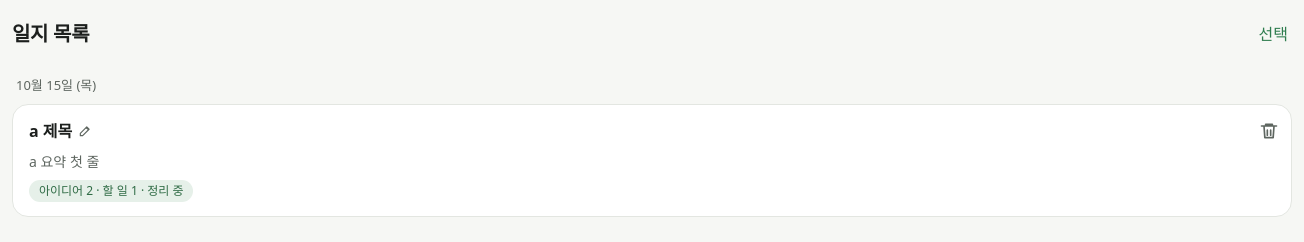
Scenario: JournalListScreen › 제목을 고치기 전에 떠난 다시 불러오기 응답은 고친 제목을 되돌리지 않는다
The width and height of the screenshot is (1304, 242).
Click the button with aria-label "제목 수정: a 제목".
click(61, 130)  # box [23,108,98,152]
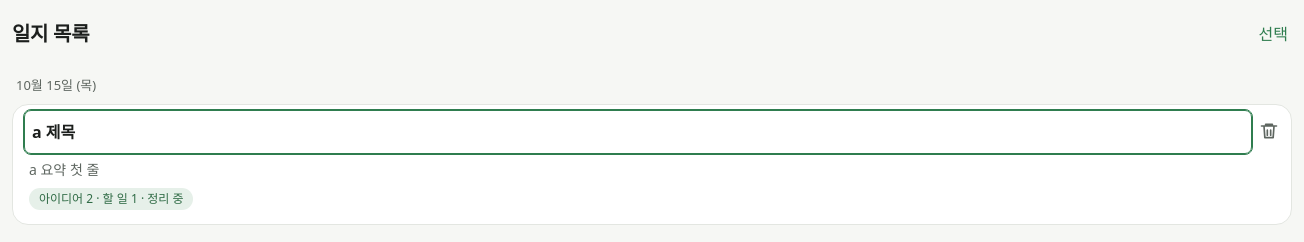
Replace the text in the field named "대화 제목" with "새 제목" at (638, 132), box [23,108,1253,154]
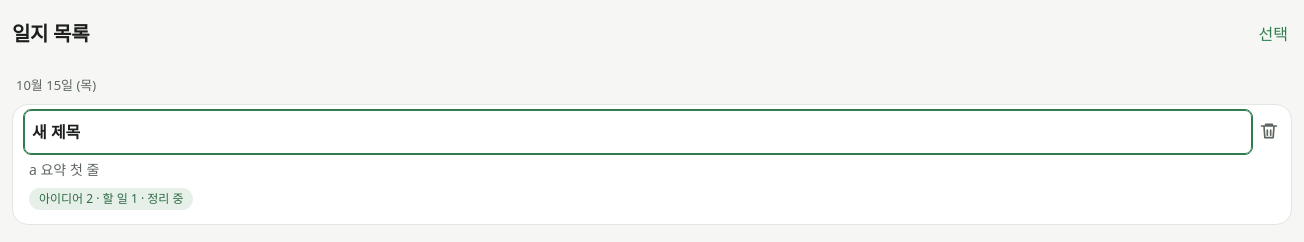
Leave the field named "대화 제목", box [23,108,1253,154]
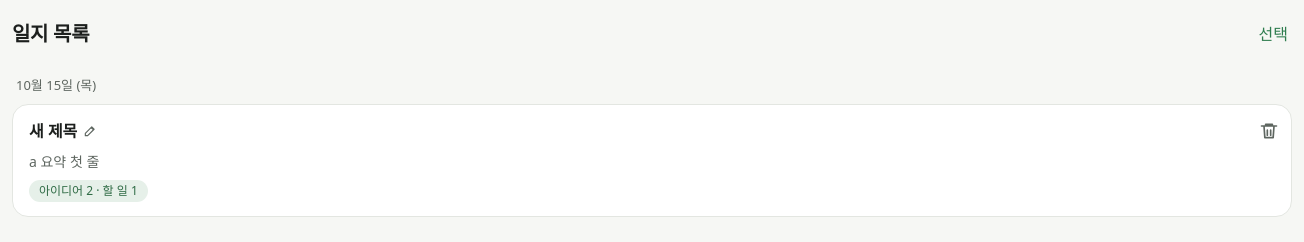
Now the button with aria-label "제목 수정: 새 제목" is shown, box [23,108,103,152]
